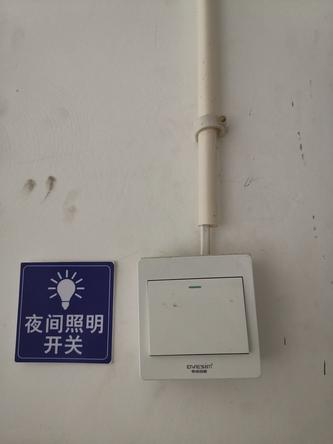switch: (140, 268, 252, 364)
